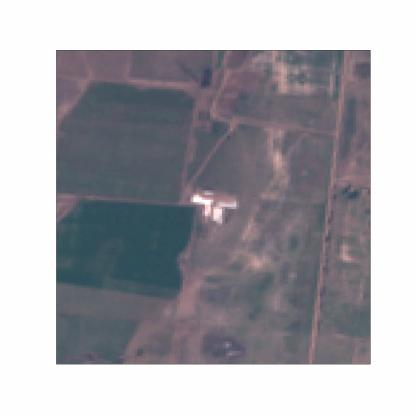silobolsa: (189, 194, 215, 206), (216, 200, 240, 209), (214, 207, 222, 227)
